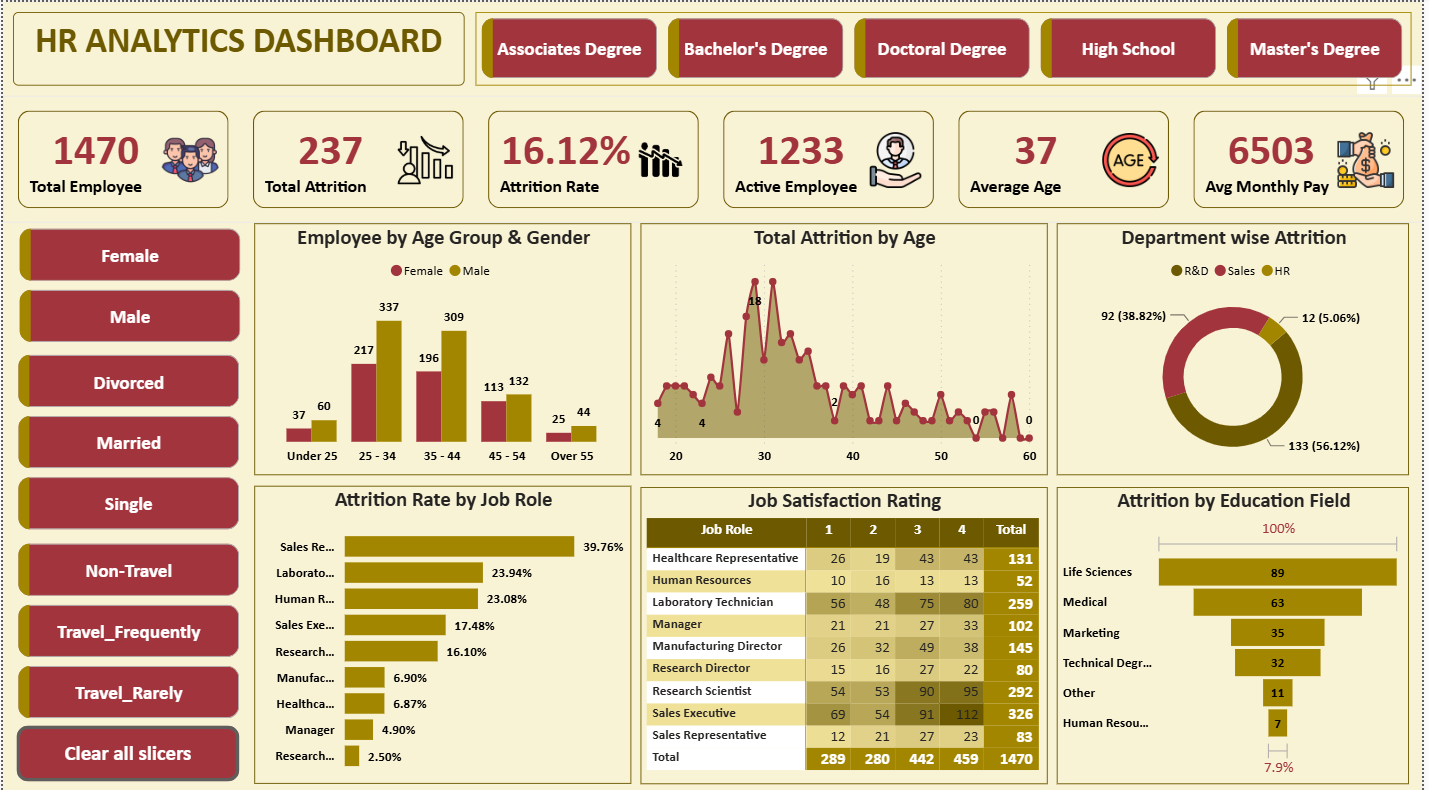

This screenshot's page, from the dashboard's own definition file:
{"tool":"powerbi","page":{"name":"Dashboard","canvas":[1280,720],"ordinal":0},"visuals":[{"type":"cardVisual","fields":{"Data":["KPI.Total Employee","KPI.Total Attrition","KPI.Attrition Rate","KPI.Active Employee","Avg(HR data.Age)","Avg(HR data.Monthly Income)"]},"box":[0,84.4,1280.3,114.9],"z":0},{"type":"clusteredColumnChart","title":"Employee by Age Group & Gender","fields":{"Category":["HR data.Age Group"],"Y":["KPI.Total Employee"],"Series":["HR data.Gender"]},"box":[226.2,199.3,339.9,227.4],"z":1000},{"type":"areaChart","fields":{"Category":["HR data.Age"],"Y":["KPI.Total Attrition"]},"box":[574.7,199.3,366.8,227.4],"z":2000},{"type":"donutChart","title":"Department wise Attrition","fields":{"Category":["HR data.Department"],"Y":["KPI.Total Attrition"]},"box":[950.1,199.3,317.9,227.4],"z":3000},{"type":"clusteredBarChart","fields":{"Category":["HR data.Job Role"],"Y":["KPI.Attrition Rate"]},"box":[226.2,436.6,339.9,269],"z":4000},{"type":"pivotTable","title":"Job Satisfaction Rating","fields":{"Rows":["HR data.Job Role"],"Columns":["HR data.Job Satisfaction"],"Values":["KPI.Total Employee"]},"box":[574.7,437.8,366.8,267.8],"z":5000},{"type":"funnel","title":"Attrition by Education Field","fields":{"Category":["HR data.Education Field"],"Y":["KPI.Total Attrition"]},"box":[950.1,437.8,317.9,267.8],"z":6000},{"type":"advancedSlicerVisual","fields":{"Values":["HR data.Gender"]},"box":[9.8,199.3,209.1,113.7],"z":6001},{"type":"advancedSlicerVisual","fields":{"Values":["HR data.Marital Status"]},"box":[8.6,313,209.1,170],"z":6002},{"type":"advancedSlicerVisual","fields":{"Values":["HR data.Business Travel"]},"box":[8.6,483,209.1,170],"z":6003},{"type":"advancedSlicerVisual","fields":{"Values":["HR data.Education"]},"box":[425.5,8.6,843.8,66],"z":6004},{"type":"textbox","box":[8.6,8.6,407.2,66],"z":6005},{"type":"actionButton","box":[12.2,653,200.5,50.1],"z":6006}]}

Visuals, with their boxes in screenshot pixels (x1, y1, x2, y2), scaled from the page's 1280x720 canvas onto the 1429x790 screenshot:
cardVisual - KPI.Total Employee x KPI.Total Attrition: 0 93 1428 219
"Employee by Age Group & Gender" clusteredColumnChart: 253 219 632 468
areaChart - HR data.Age x KPI.Total Attrition: 642 219 1051 468
"Department wise Attrition" donutChart: 1061 219 1416 468
clusteredBarChart - HR data.Job Role x KPI.Attrition Rate: 253 479 632 774
"Job Satisfaction Rating" pivotTable: 642 480 1051 774
"Attrition by Education Field" funnel: 1061 480 1416 774
advancedSlicerVisual - HR data.Gender: 11 219 244 343
advancedSlicerVisual - HR data.Marital Status: 10 343 243 530
advancedSlicerVisual - HR data.Business Travel: 10 530 243 716
advancedSlicerVisual - HR data.Education: 475 9 1417 82
textbox: 10 9 464 82
actionButton: 14 716 237 771
